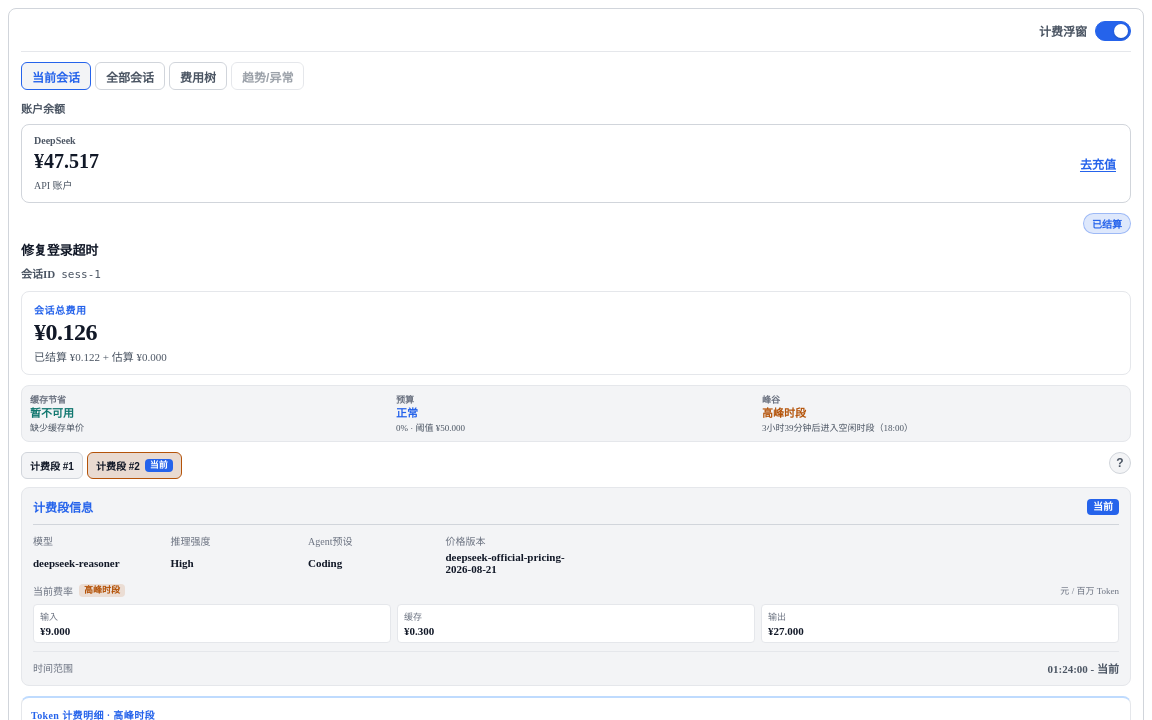
Test: overlay visual contract › does not repeat ordinary sessions in the cost tree without parent-child relationships
Click the tab "费用树": (198, 76) 169,62 -> 227,90
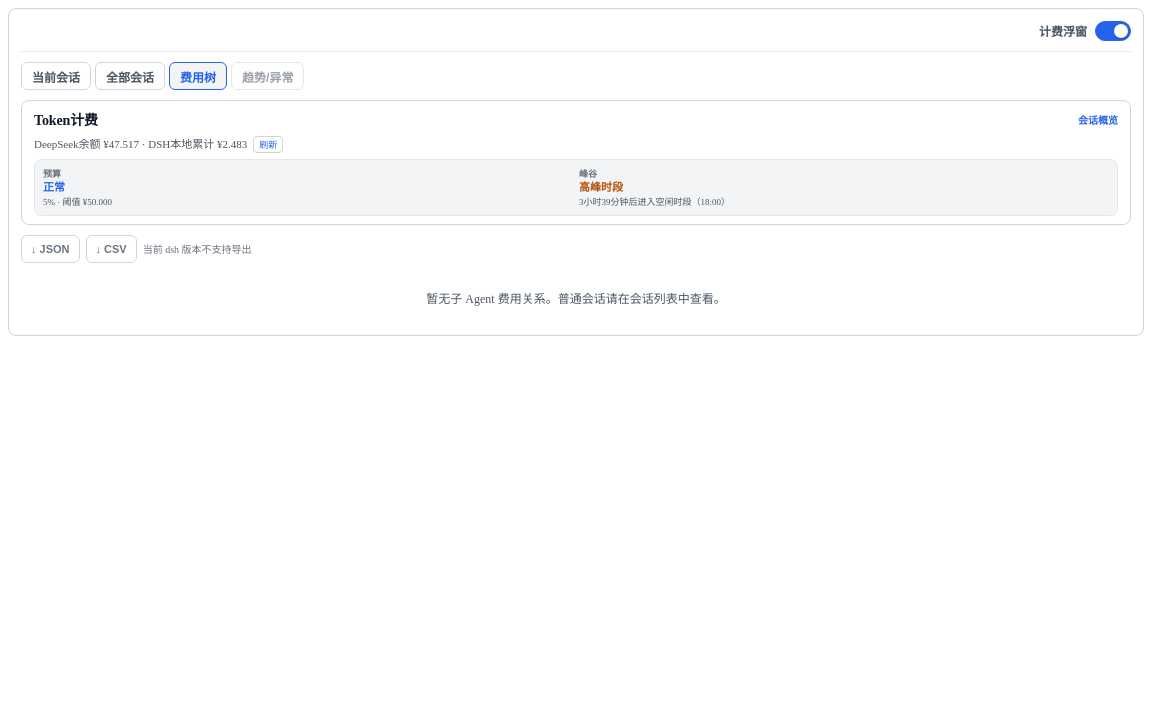
Check: the text "暂无子 Agent 费用关系。普通会话请在会话列表中查看。" is shown, box 426,292 -> 726,306
Click the tab "全部会话": (130, 76) 95,62 -> 165,90
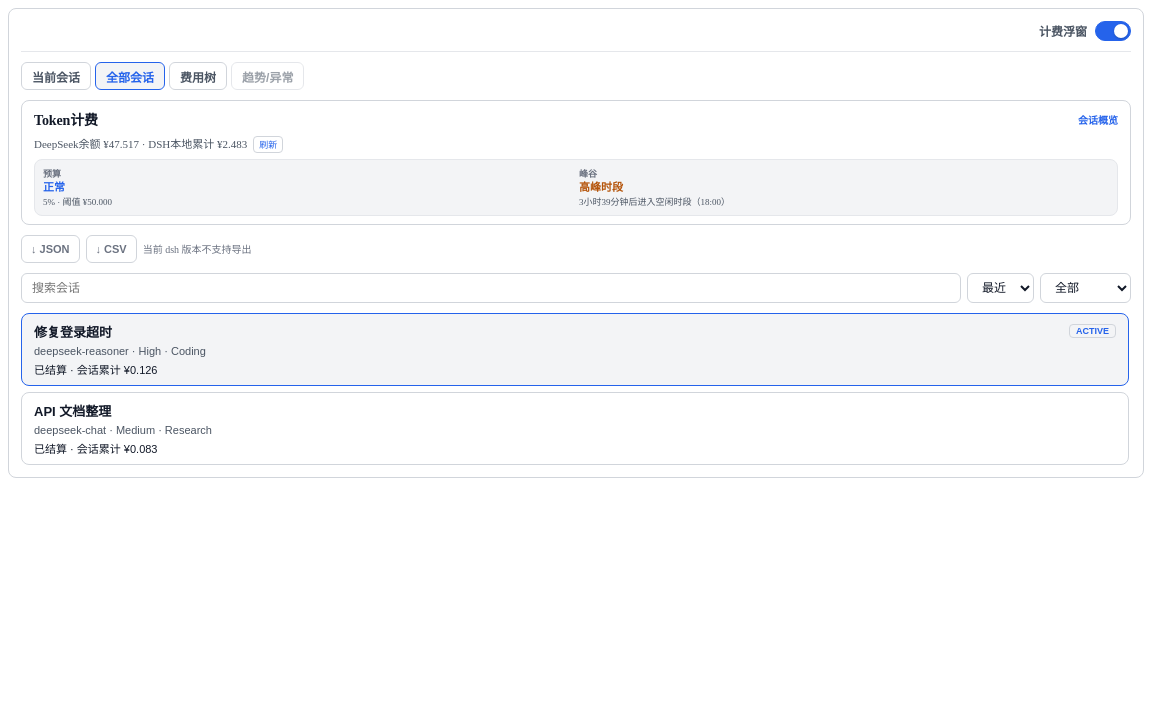
Check: the field labelled "搜索会话" is shown, box 21,273 -> 961,303
